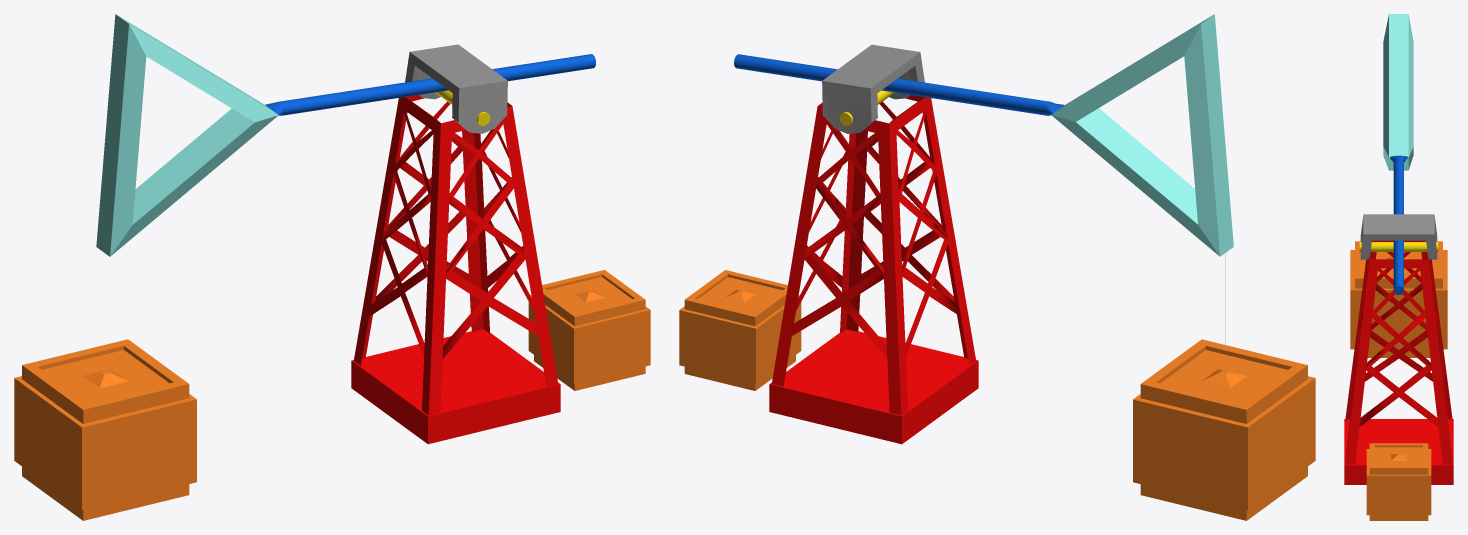
3 views of the same model, side by side, from view 1: azimuth 30°, elevation 25°; view 2: azimuth 150°, elevation 25°; view 3: azimuth 270°, elevation 25° (orthographic). The views are drawn at different scales.
Visible parts, largest first — view 1: Box008, Box006, Box001, Box002, Box009, Box004, Box007, Box003, Cylinder002, Box005; view 2: Box008, Box006, Box001, Box003, Box009, Box004, Box007, Box002, Cylinder002, Box005; view 3: Box005, Box009, Box008, Box006, Box001, Box004, Box007, Cylinder002, Box003, Box002, Cylinder001.
Boxes of the visible parts, left/top/right/bottom form: Box008: left=14, top=339, right=196, bottom=520; Box006: left=96, top=14, right=278, bottom=256; Box001: left=351, top=329, right=560, bottom=444; Box002: left=428, top=106, right=558, bottom=415; Box009: left=528, top=270, right=650, bottom=390; Box004: left=353, top=97, right=440, bottom=415; Box007: left=405, top=44, right=507, bottom=133; Box003: left=362, top=95, right=483, bottom=358; Cylinder002: left=265, top=54, right=595, bottom=115; Box005: left=474, top=103, right=533, bottom=333; Box008: left=1133, top=339, right=1315, bottom=520; Box006: left=1051, top=14, right=1233, bottom=256; Box001: left=769, top=329, right=978, bottom=444; Box003: left=771, top=106, right=901, bottom=415; Box009: left=679, top=270, right=801, bottom=390; Box004: left=889, top=97, right=976, bottom=415; Box007: left=822, top=44, right=924, bottom=133; Box002: left=846, top=95, right=967, bottom=358; Cylinder002: left=734, top=54, right=1064, bottom=115; Box005: left=796, top=102, right=855, bottom=333; Box005: left=1345, top=259, right=1452, bottom=464; Box009: left=1366, top=443, right=1431, bottom=520; Box008: left=1350, top=241, right=1447, bottom=357; Box006: left=1383, top=14, right=1413, bottom=170; Box001: left=1344, top=419, right=1453, bottom=484; Box004: left=1346, top=240, right=1451, bottom=419; Box007: left=1360, top=214, right=1437, bottom=259; Cylinder002: left=1390, top=155, right=1408, bottom=294; Box003: left=1428, top=257, right=1452, bottom=463; Box002: left=1345, top=257, right=1369, bottom=463; Cylinder001: left=1359, top=242, right=1438, bottom=251.
Bounding box in the file's own units: 2186 × 1667 × 500.
